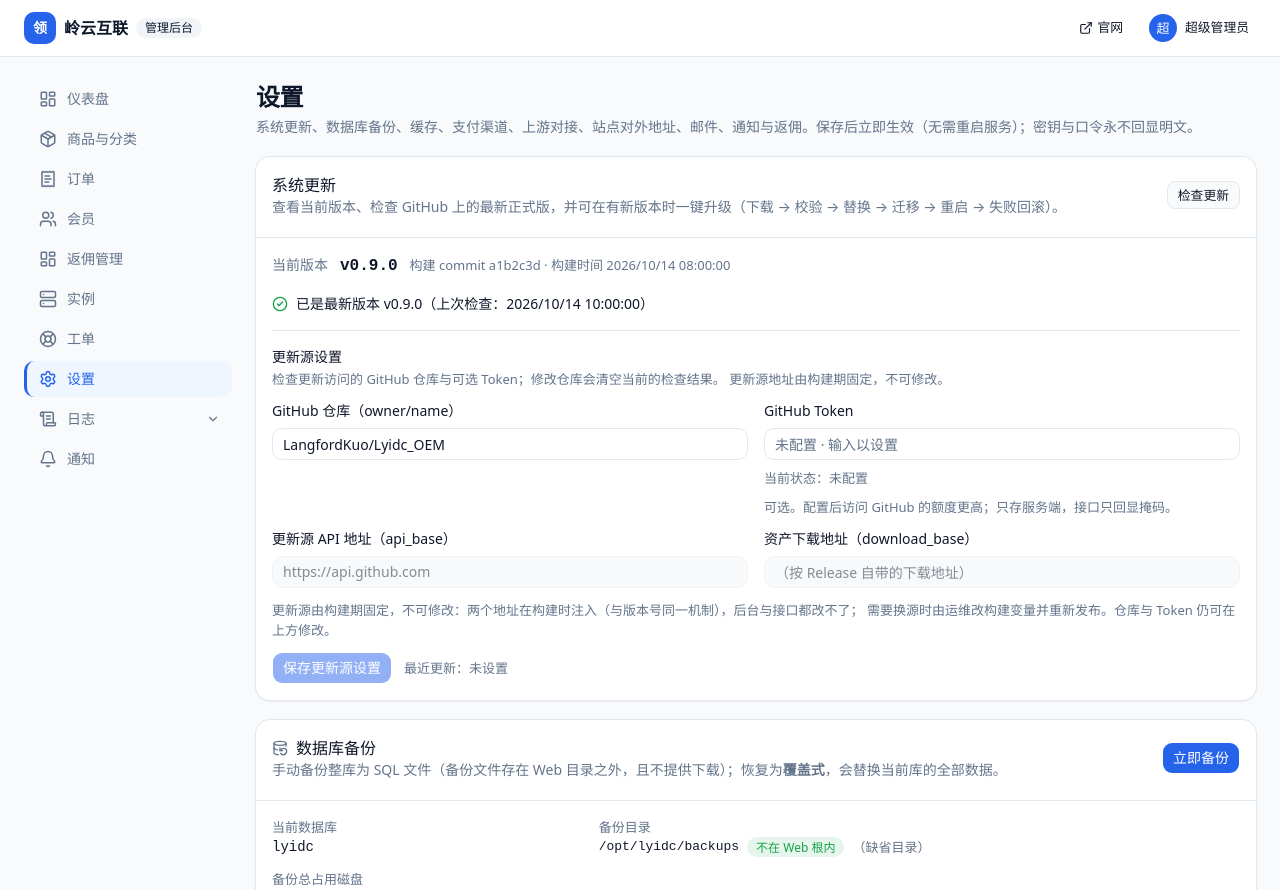
Test: 管理后台 · 数据库备份（R14，契约 21） › 「立即备份」：进行中禁用并提示结果，成功后重新拉取列表
Expected: the heading "设置" is shown, [256,80,303,113]
Click the button with test id "db-backup-create" at (1201, 758), box [1162,742,1240,774]
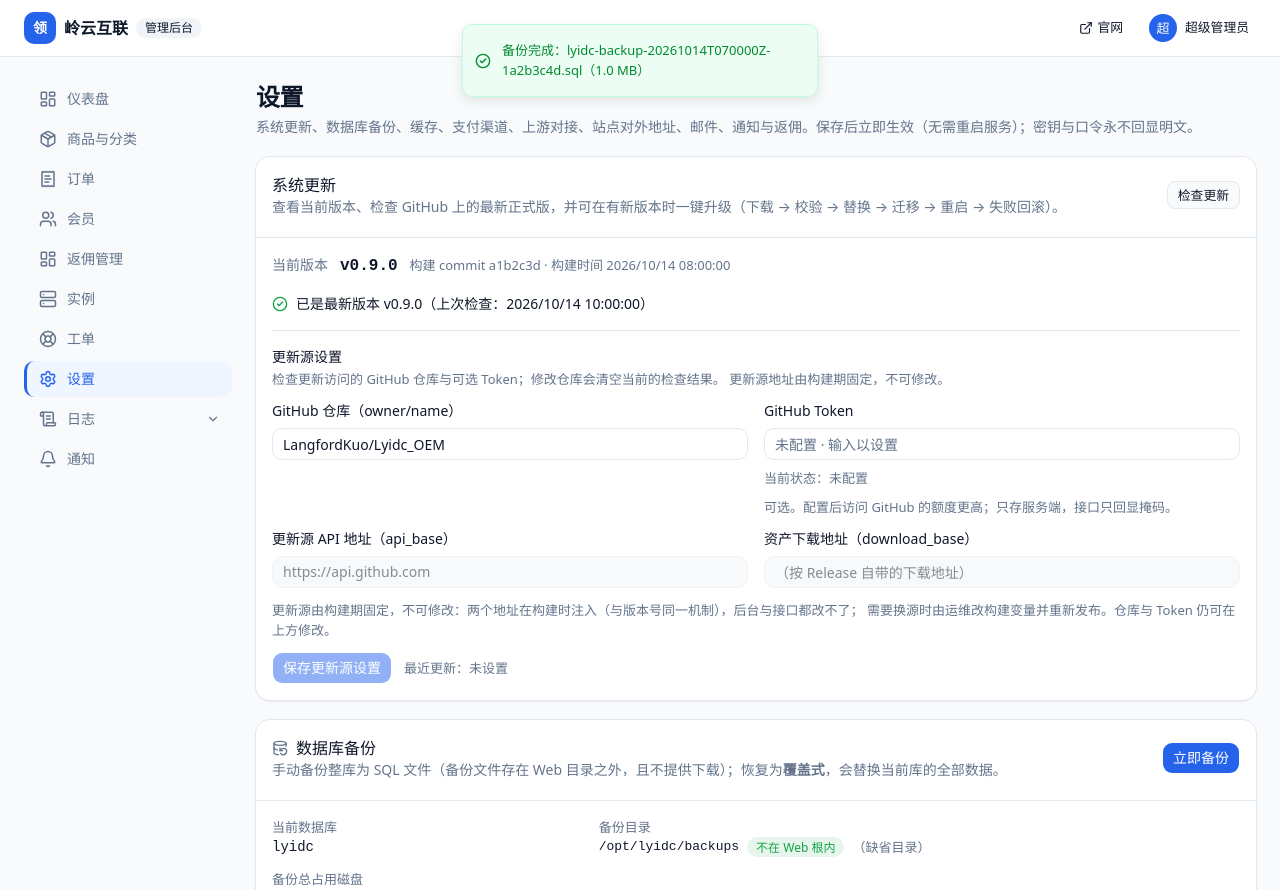
Result: the text "备份完成：lyidc-backup-20261014T070000Z-1a2b3c4d.sql（1.0 MB）" is shown at [502,41,801,80]
